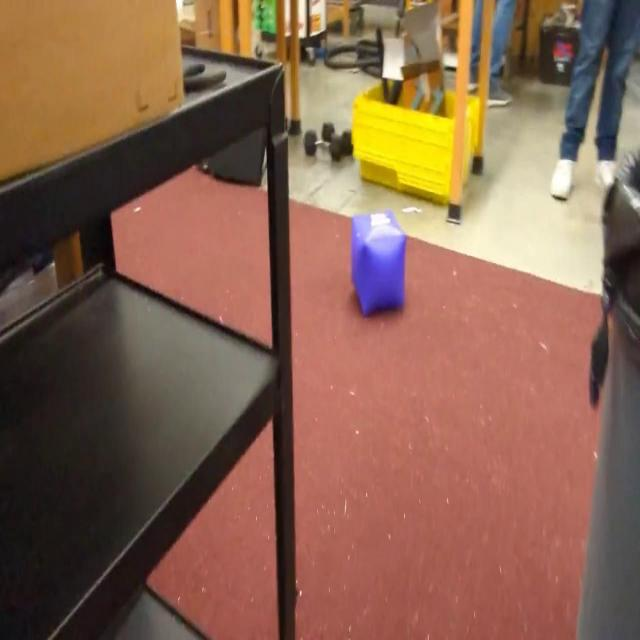frc_cube: (351, 208, 408, 318)
